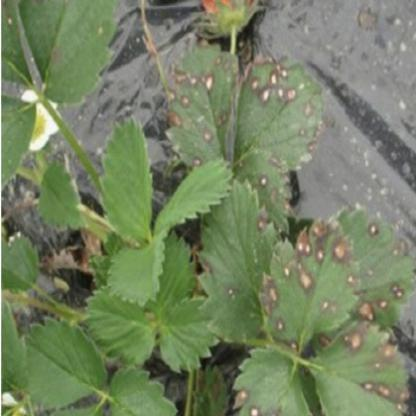Strawberry_Leaf_Spot: (194, 174, 286, 347), (256, 218, 362, 352), (330, 204, 416, 332), (232, 54, 326, 170), (304, 318, 414, 414), (164, 37, 242, 168), (230, 346, 323, 416), (230, 148, 292, 236)
